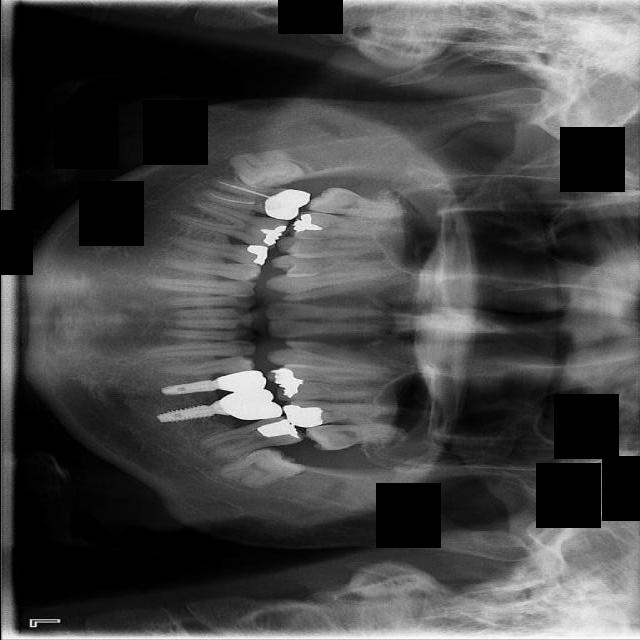52: (229, 213, 289, 253), (256, 182, 311, 224), (217, 387, 282, 422), (244, 414, 305, 448), (287, 209, 340, 242), (282, 400, 338, 427), (214, 369, 266, 394), (266, 364, 328, 384), (276, 380, 329, 401), (226, 243, 268, 268)
73: (202, 175, 274, 215), (123, 552, 132, 599)
BioHorizons Implant: (304, 423, 390, 452)
Biomet 3i Implant: (218, 439, 306, 493)
Blue Sky Bio Implant: (196, 412, 306, 463)
Caries: (306, 184, 408, 221)
Implant: (201, 176, 312, 224)
Keystone Dental Implant: (229, 146, 309, 192)
